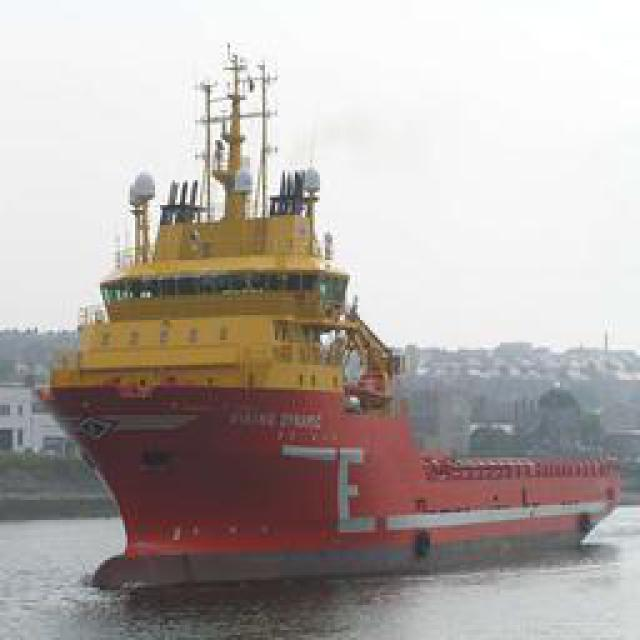Ship: (47, 310, 627, 585)
